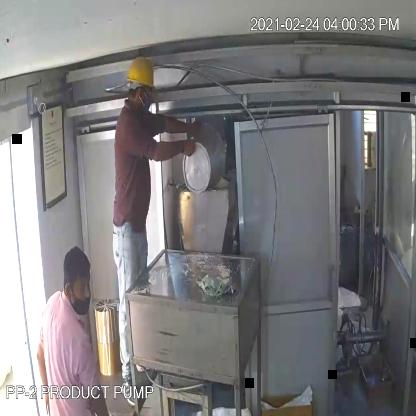helmet: (125, 57, 157, 91)
